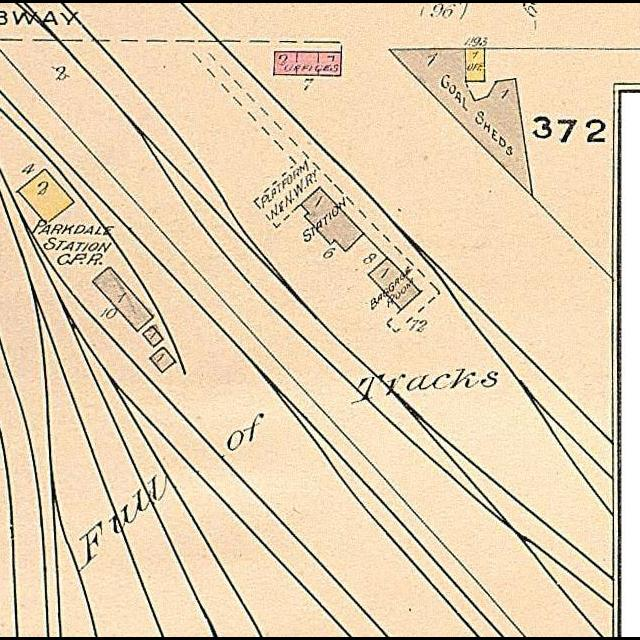building-footprints: (389, 49, 532, 196), (301, 187, 364, 251), (93, 268, 153, 331), (18, 170, 75, 223), (368, 258, 421, 310), (274, 52, 341, 75), (466, 49, 485, 81), (151, 348, 175, 373), (143, 327, 163, 347)
